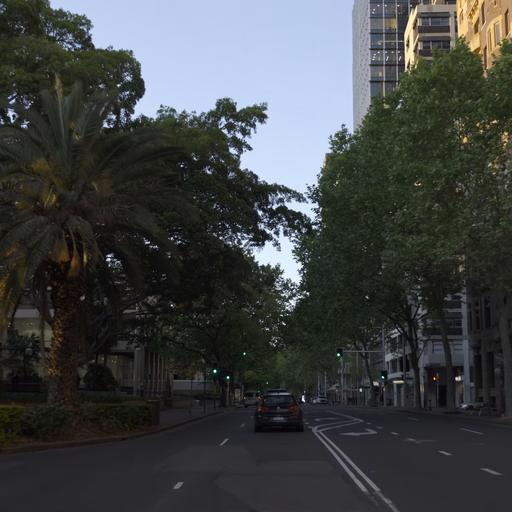Street light: (335, 347, 342, 358), (380, 369, 387, 380), (212, 367, 217, 374), (224, 374, 229, 380)
